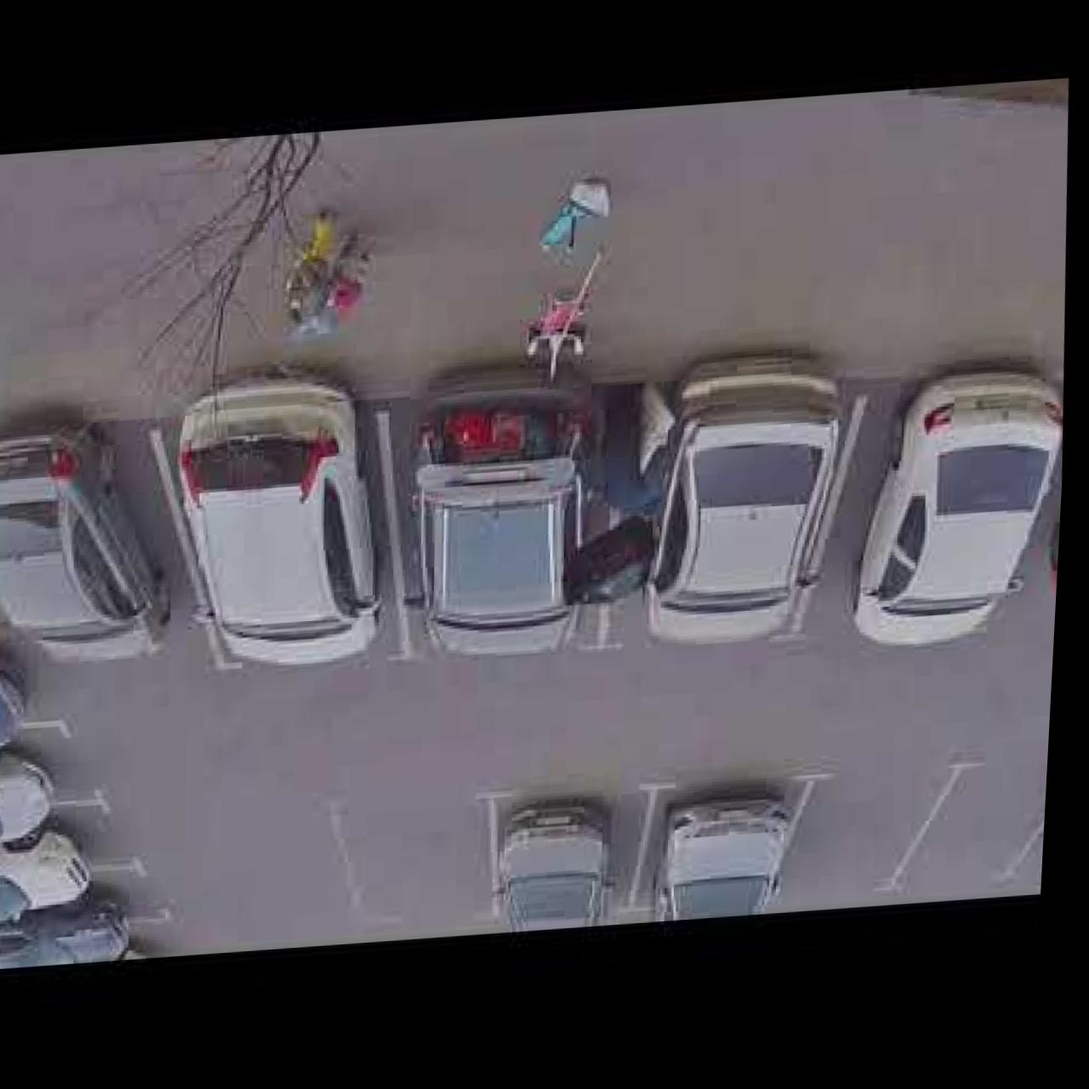cars: (140, 388, 425, 700), (369, 382, 638, 696), (812, 371, 1068, 670), (606, 367, 855, 665), (0, 408, 206, 693), (626, 767, 811, 921), (466, 782, 651, 936), (0, 863, 175, 950), (0, 791, 143, 891), (0, 719, 126, 827)
empty: (772, 751, 951, 917), (318, 786, 505, 941), (894, 747, 1048, 920)
